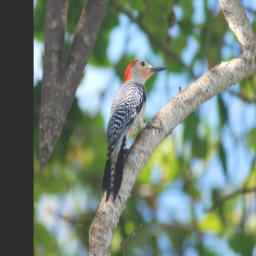Woodpecker: (92, 48, 175, 220)
